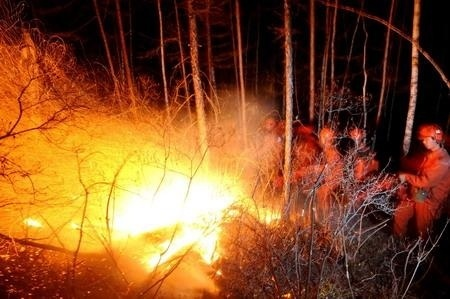fire: (98, 160, 249, 270)
